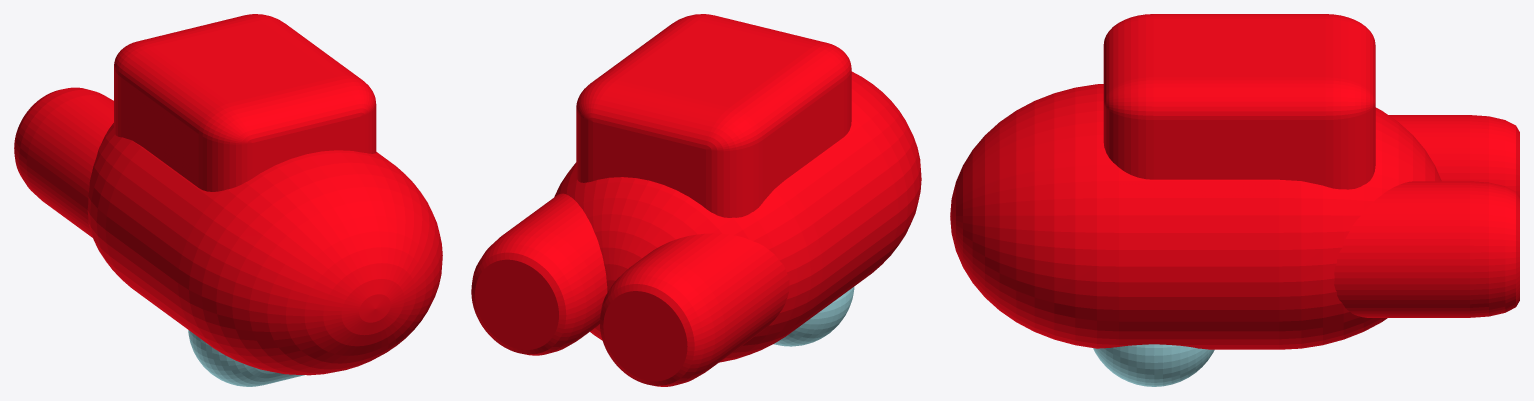
The model's file is tinker.obj.
3 renders of one model, left to right at view 1: azimuth 30°, elevation 25°; view 2: azimuth 150°, elevation 25°; view 3: azimuth 270°, elevation 25°, orthographic. The views are drawn at different scales.
Parts seen in each view (by area): view 1: group_0_16711700, group_0_11793919; view 2: group_0_16711700, group_0_11793919; view 3: group_0_16711700, group_0_11793919.
Part boxes in pixels (box(x1,y1,x2,y2)): group_0_16711700: box(14, 14, 442, 375); group_0_11793919: box(188, 330, 304, 386); group_0_16711700: box(471, 14, 921, 386); group_0_11793919: box(773, 287, 854, 346); group_0_16711700: box(950, 14, 1519, 349); group_0_11793919: box(1093, 344, 1214, 386).
Bounding box in the file's own units: 18.29 × 20.33 × 33.45.
